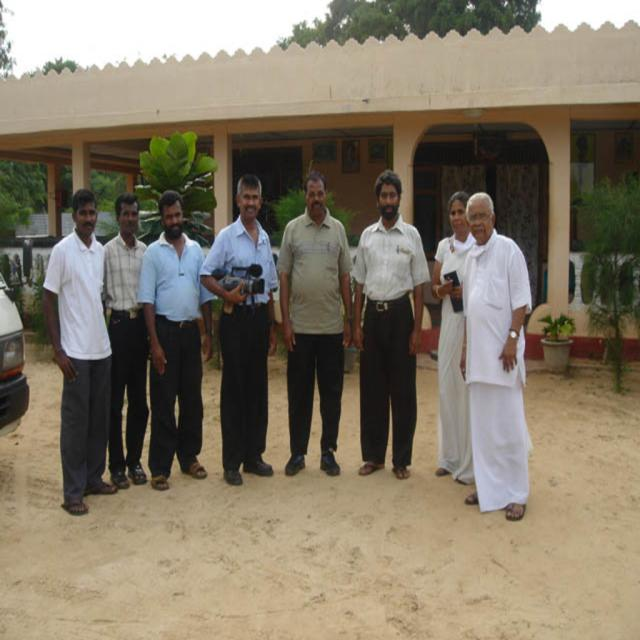car: (0, 269, 29, 439)
